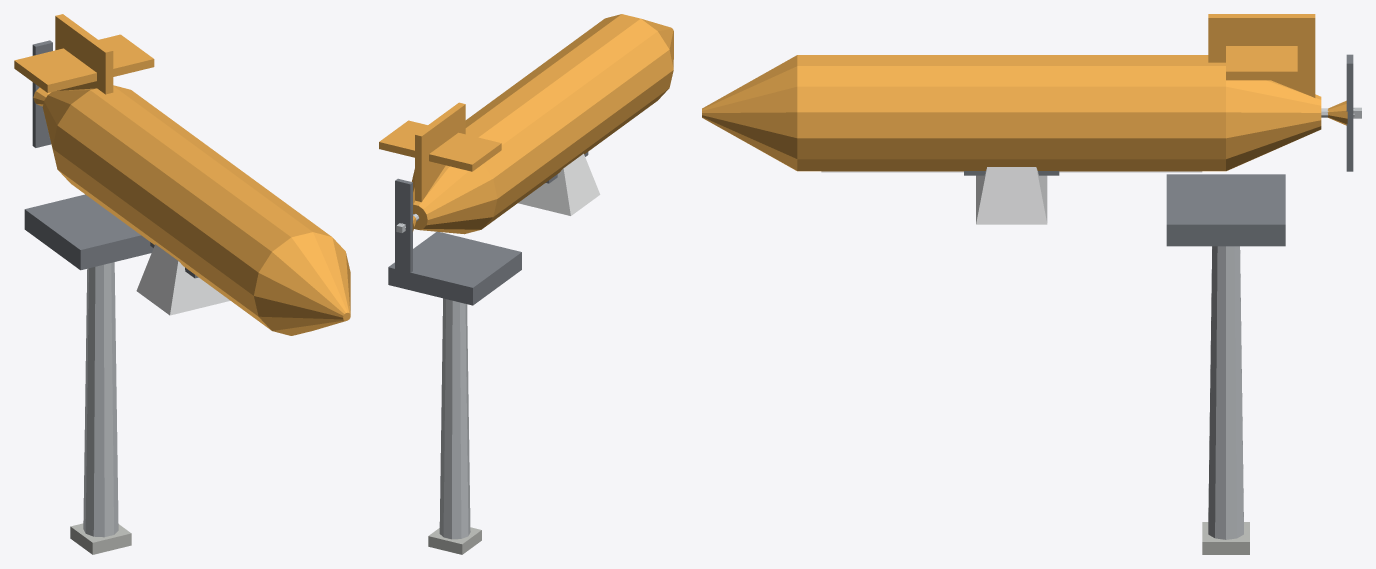
The model's file is blimp-patrol.glb.
3 renders of one model, left to right at view 1: azimuth 30°, elevation 25°; view 2: azimuth 150°, elevation 25°; view 3: azimuth 270°, elevation 25°, orthographic. The views are drawn at different scales.
Visible parts, largest first — view 1: blimp-patrol, prop-1/graphite; view 2: blimp-patrol, prop-1/graphite; view 3: blimp-patrol, prop-1/graphite.
Part boxes in pixels (box(x1,y1,x2,y2)): blimp-patrol: box(14, 14, 350, 554); prop-1/graphite: box(32, 40, 52, 147); blimp-patrol: box(379, 14, 673, 554); prop-1/graphite: box(395, 178, 412, 272); blimp-patrol: box(702, 14, 1354, 554); prop-1/graphite: box(1346, 54, 1353, 171).
Size of the model in its own units: 0.55 by 2.45 by 2.77.
